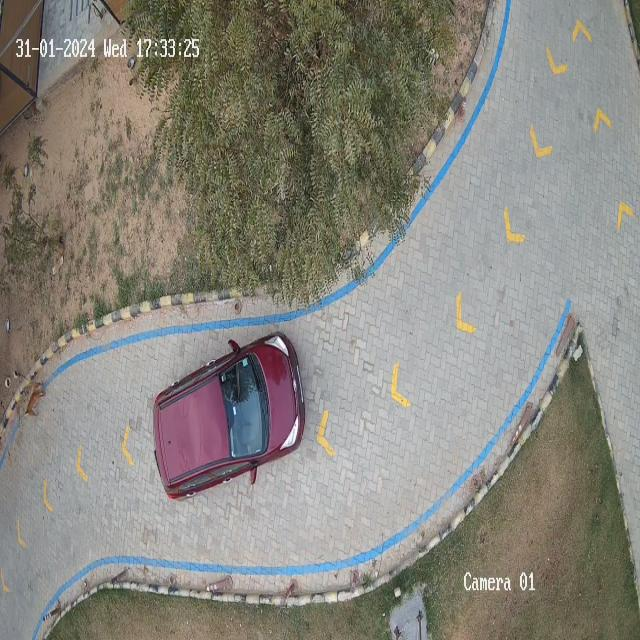car: (154, 334, 306, 502)
